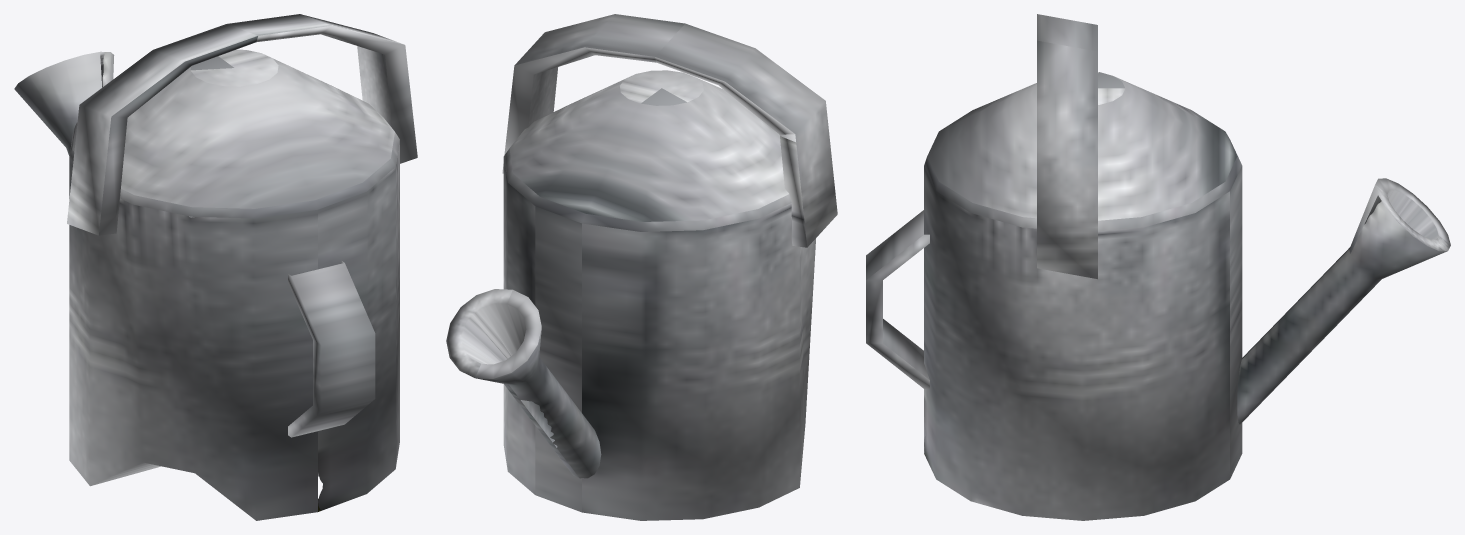
File: Regador.fbx
3 views of the same model, side by side, from view 1: azimuth 30°, elevation 25°; view 2: azimuth 150°, elevation 25°; view 3: azimuth 270°, elevation 25° (orthographic). The views are drawn at different scales.
Parts seen in each view (by area): view 1: Regador; view 2: Regador; view 3: Regador.
Boxes of the visible parts, bbox=[...] form: Regador: bbox=[14, 14, 417, 520]; Regador: bbox=[446, 14, 837, 520]; Regador: bbox=[866, 14, 1450, 520].
Size of the model in its own units: 8.92 by 14.85 by 11.57.
